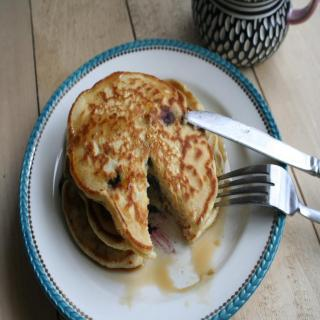Pancake: (57, 136, 230, 274), (86, 132, 221, 254)
